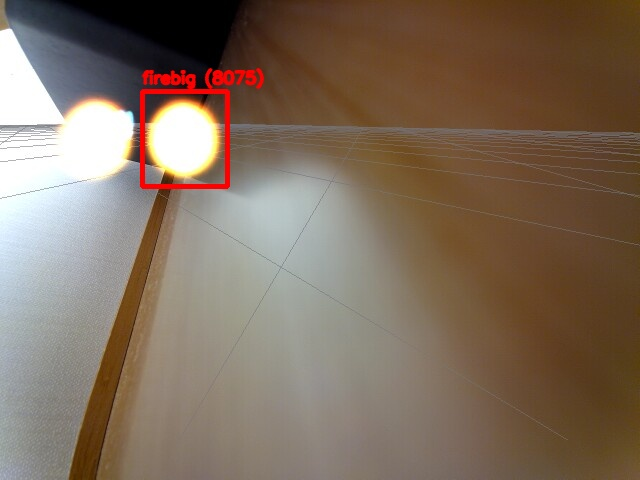firebig: (142, 91, 227, 186)
